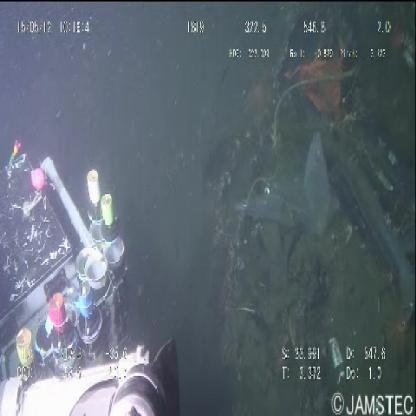Rác: (230, 123, 344, 235)
